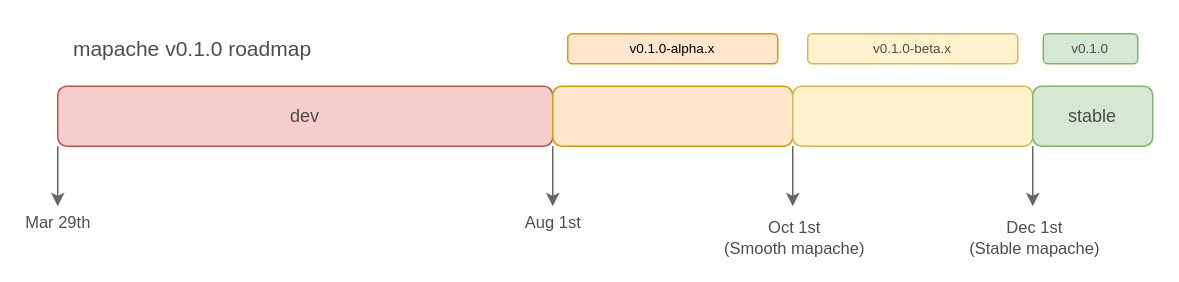
The diagram is 1179 pixels wide and 282 high, and some of its shapes have lost their labels. The shapes that lost their labels are listed below. From the top down, each one's centre as x and y in pixels, then its label:
At (672,115): "alpha".
At (912,115): "beta".
